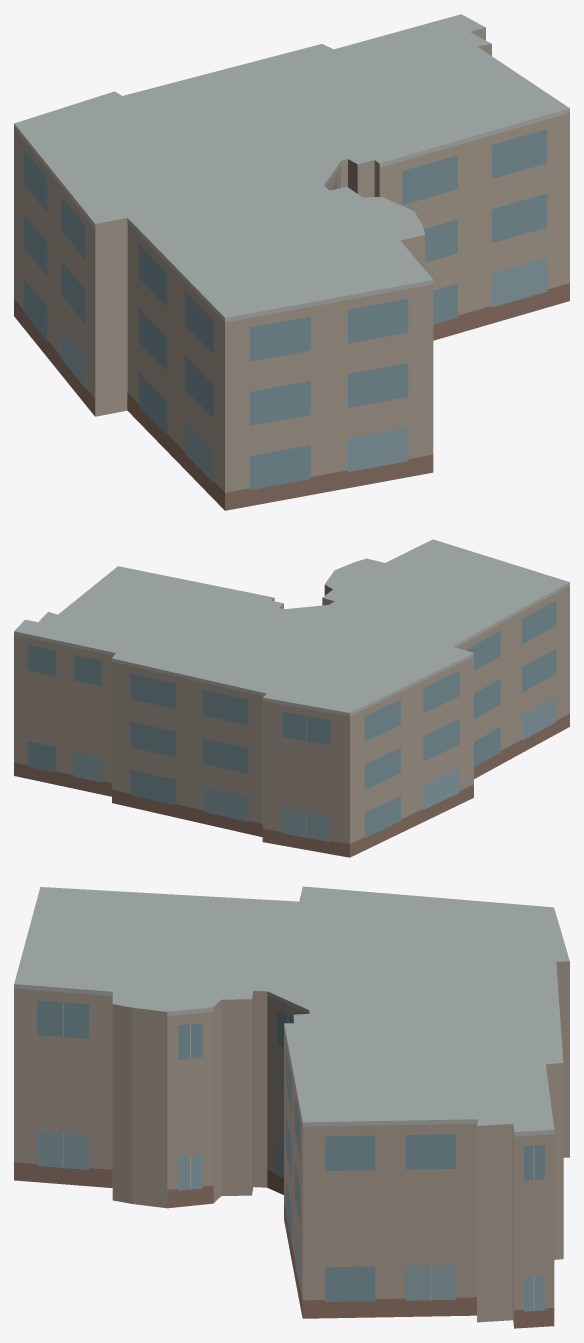
File: survey-upis-32480513.glb
3 views of the same model, one above another, from view 1: azimuth 30°, elevation 25°; view 2: azimuth 150°, elevation 25°; view 3: azimuth 270°, elevation 25° (orthographic). The views are drawn at different scales.
Parts seen in each view (by area): view 1: survey-upis-32480513.tmp; view 2: survey-upis-32480513.tmp; view 3: survey-upis-32480513.tmp.
Boxes of the visible parts, left/top/right/bottom form: survey-upis-32480513.tmp: left=14, top=14, right=569, bottom=510; survey-upis-32480513.tmp: left=14, top=539, right=569, bottom=857; survey-upis-32480513.tmp: left=14, top=886, right=569, bottom=1328.
Bounding box in the file's own units: 28.47 × 10.6 × 27.2.
